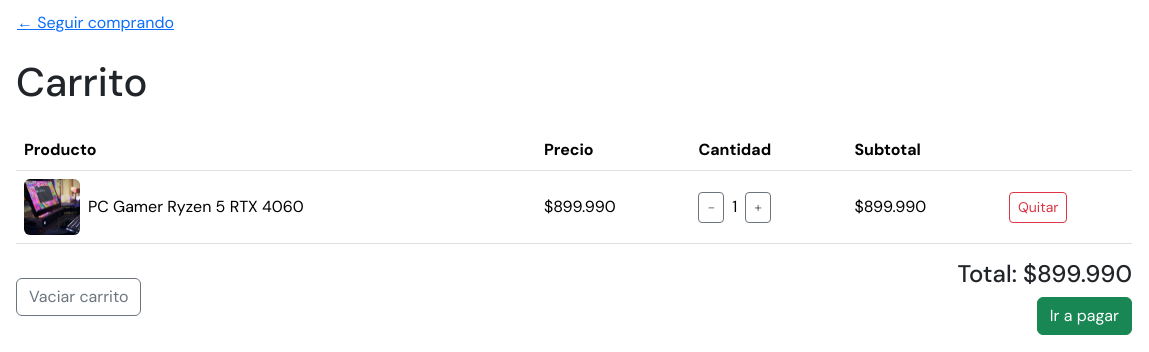
Carrito › quitar deja el carrito vacío
The width and height of the screenshot is (1149, 352).
Click the button "Quitar" at (1038, 207), box [1009, 192, 1067, 222]
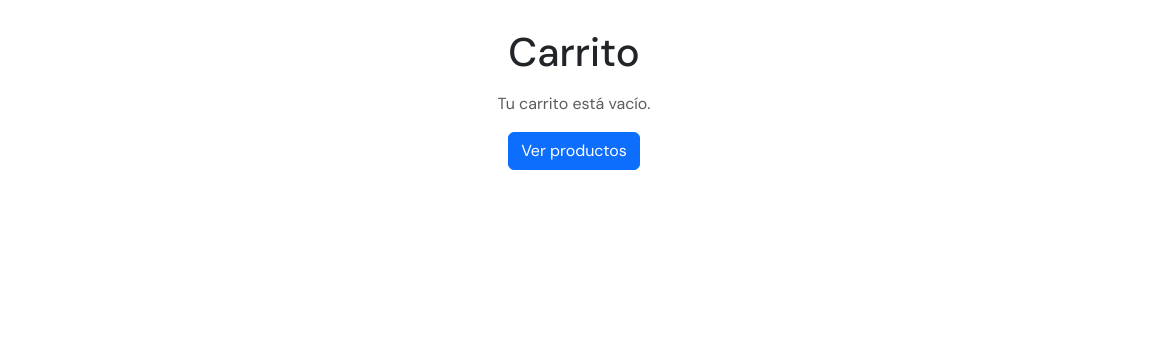
Now the text "Tu carrito está vacío." is shown, box [498, 93, 650, 114]
